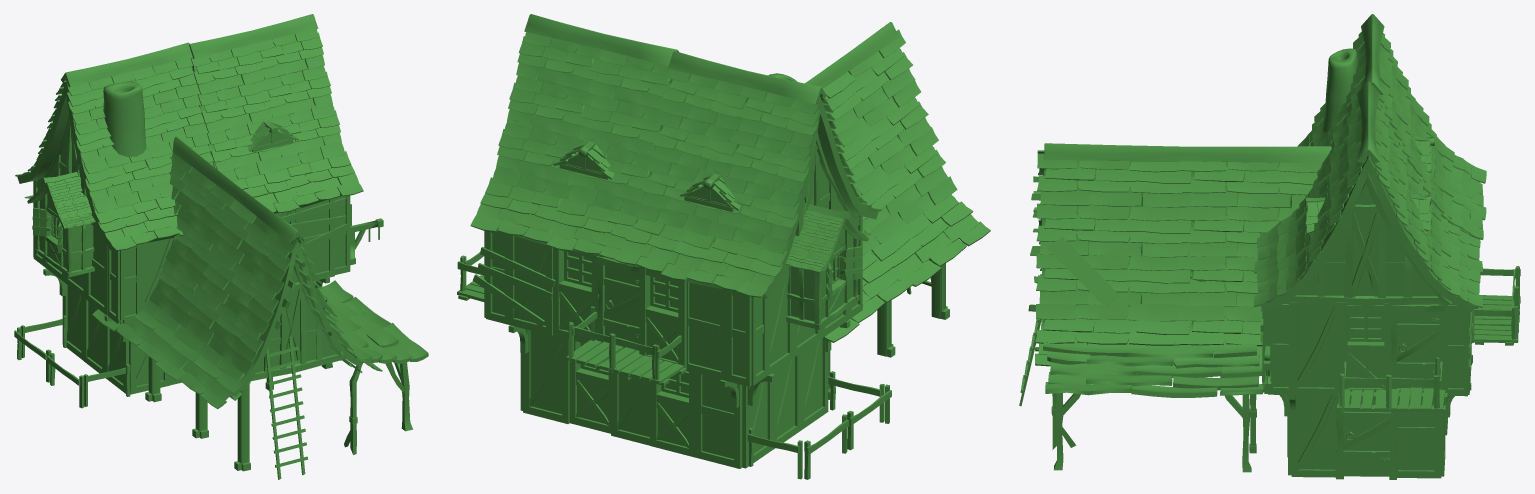
The model's file is Building_23.fbx.
The picture shows the model from 3 angles, left to right: view 1: azimuth 30°, elevation 25°; view 2: azimuth 150°, elevation 25°; view 3: azimuth 270°, elevation 25°; orthographic projection. The views are drawn at different scales.
Parts seen in each view (by area): view 1: Building_23_LOD0; view 2: Building_23_LOD0; view 3: Building_23_LOD0.
Boxes of the visible parts, x1=… form: Building_23_LOD0: x1=14, y1=14, x2=428, y2=479; Building_23_LOD0: x1=457, y1=14, x2=990, y2=479; Building_23_LOD0: x1=1019, y1=14, x2=1520, y2=479.
Size of what is drawn, in the model's own units: 1753 by 1768 by 2265.
